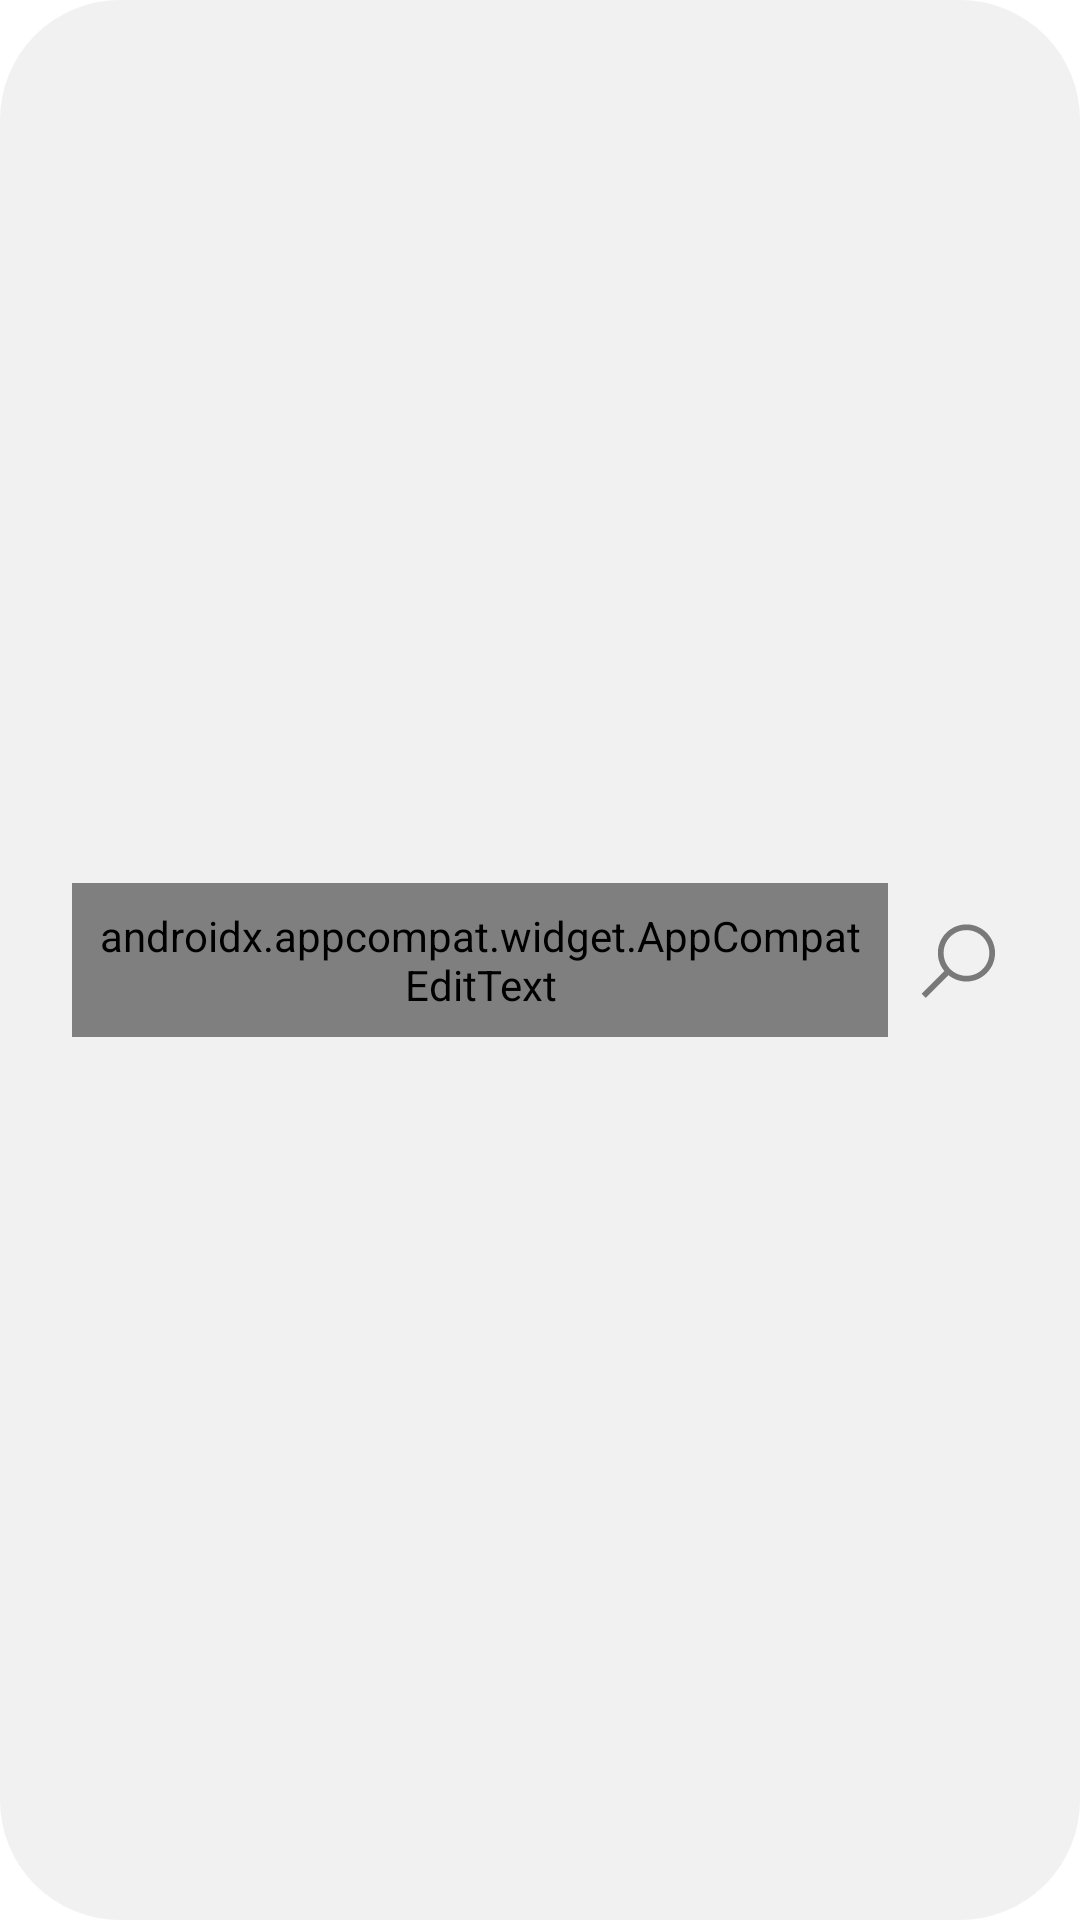

Icon bounding boxes for this 1080px×1920px phone screenshot, format {"left": x1, "top": y1, "right": x2, "bottom": y2}:
search: {"left": 922, "top": 924, "right": 995, "bottom": 998}
